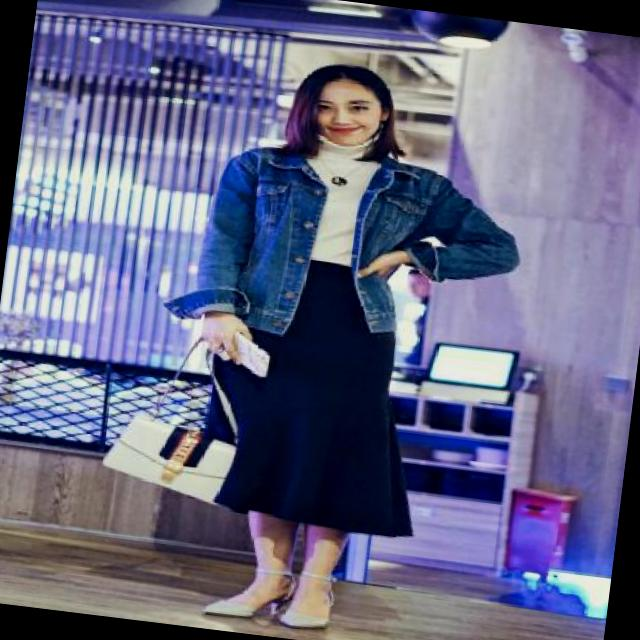Person: (98, 30, 544, 640)
